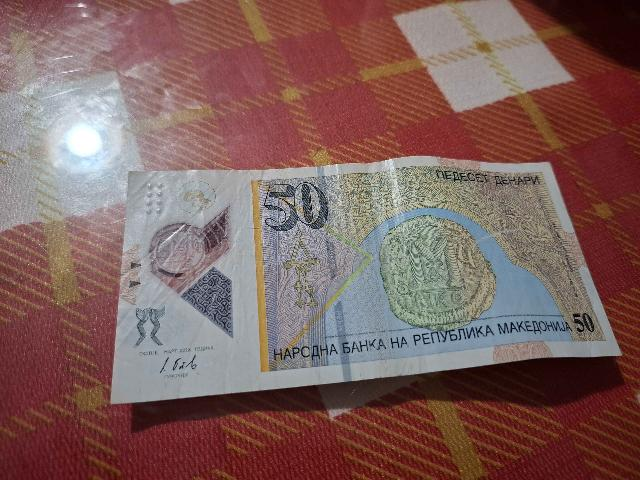50_note: (115, 159, 616, 398)
